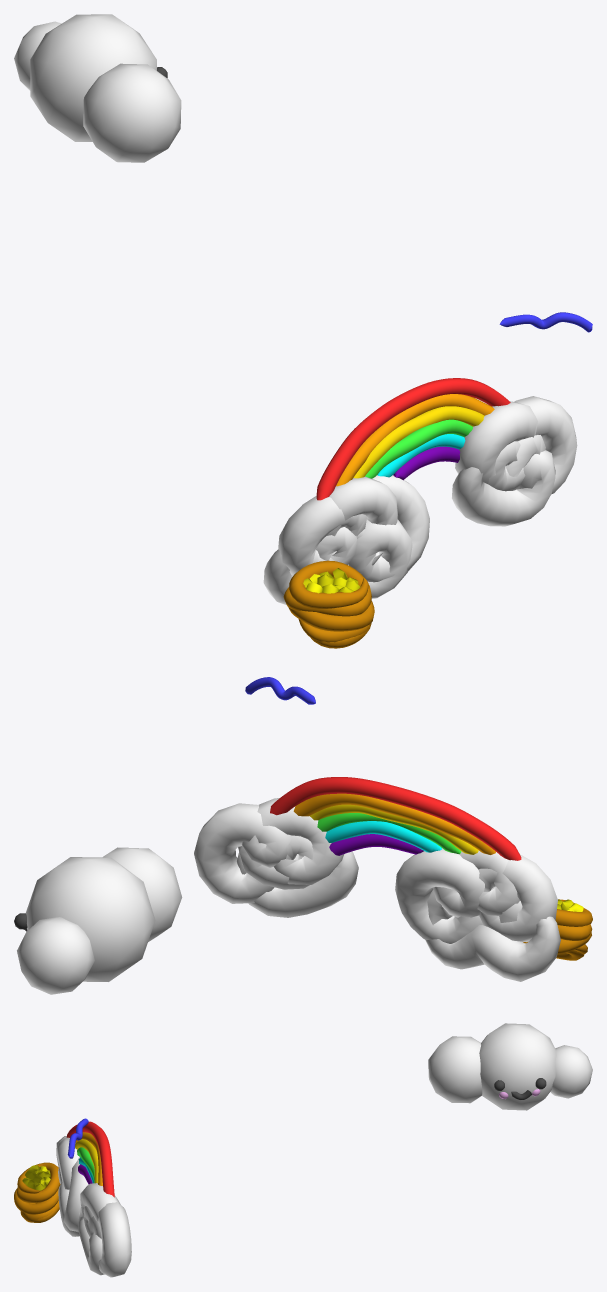
Rendered from rainbow.glb.
3 renders of one model, top to bottom at view 1: azimuth 30°, elevation 25°; view 2: azimuth 150°, elevation 25°; view 3: azimuth 270°, elevation 25°, orthographic. The views are drawn at different scales.
Visible parts, largest first — view 1: position_2, RGBA(1.000, 0.373, 0.000, 1.000):ButtonWhite (Instance) (Ins; view 2: position_2, RGBA(1.000, 0.373, 0.000, 1.000):ButtonWhite (Instance) (Ins; view 3: position_2.
Part boxes in pixels (x1,y1,x2,y2): position_2: (14,14,592,648); RGBA(1.000, 0.373, 0.000, 1.000):ButtonWhite (Instance) (Ins: (336,394,494,486); position_2: (14,677,592,994); RGBA(1.000, 0.373, 0.000, 1.000):ButtonWhite (Instance) (Ins: (293,793,495,854); position_2: (14,1023,592,1277).
Size of the model in its own units: 0.578 by 0.5419 by 1.25.
